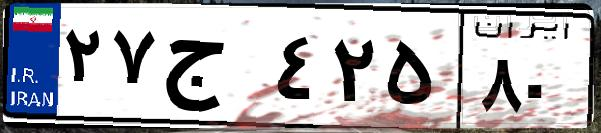0: (525, 38, 570, 115)
2: (330, 28, 385, 110), (57, 26, 110, 100)
4: (270, 28, 330, 110)
5: (385, 28, 445, 110)
7: (110, 28, 158, 98)
8: (475, 38, 525, 113)
ج: (158, 20, 270, 120)
